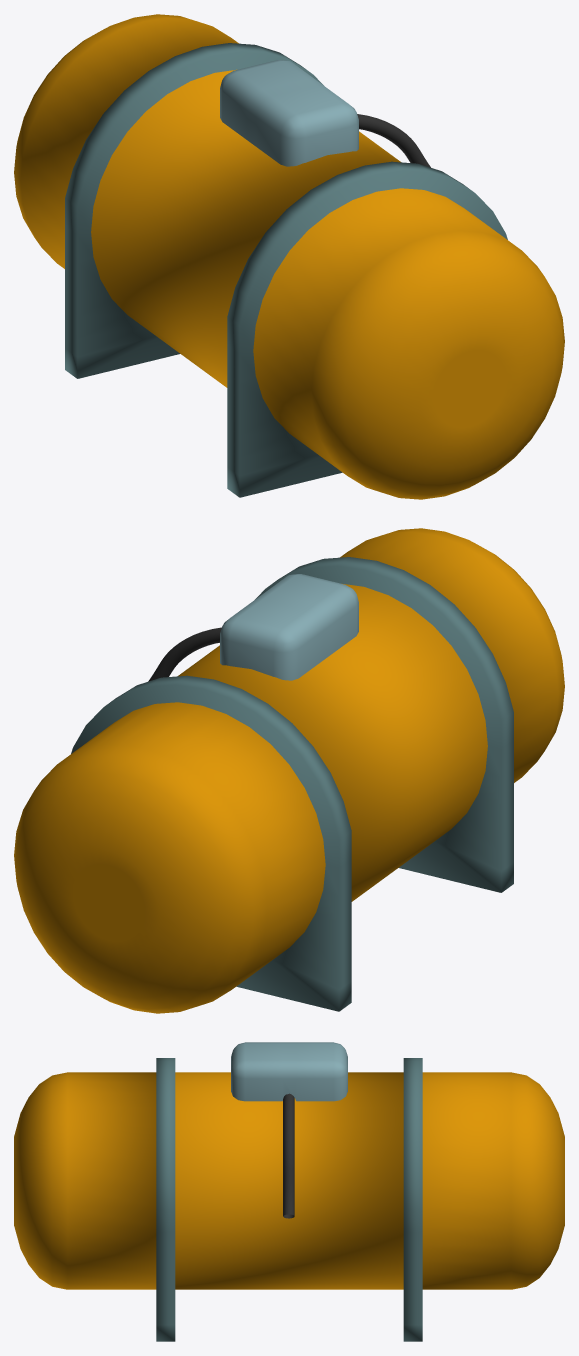
The model's file is Tanker.fbx.
3 renders of one model, top to bottom at view 1: azimuth 30°, elevation 25°; view 2: azimuth 150°, elevation 25°; view 3: azimuth 270°, elevation 25°, orthographic. The views are drawn at different scales.
Parts seen in each view (by area): view 1: Circle, Cube, GasTube; view 2: Circle, Cube, GasTube; view 3: Circle, Cube, GasTube.
Part boxes in pixels (x1,y1,x2,y2): Circle: (14,14,564,499); Cube: (220,60,358,166); GasTube: (357,114,430,167); Circle: (14,528,564,1013); Cube: (220,574,358,680); GasTube: (148,627,221,681); Circle: (14,1058,564,1341); Cube: (231,1042,347,1101); GasTube: (283,1093,294,1218).
Bounding box in the file's own units: 6.27 × 13.29 × 6.35.
